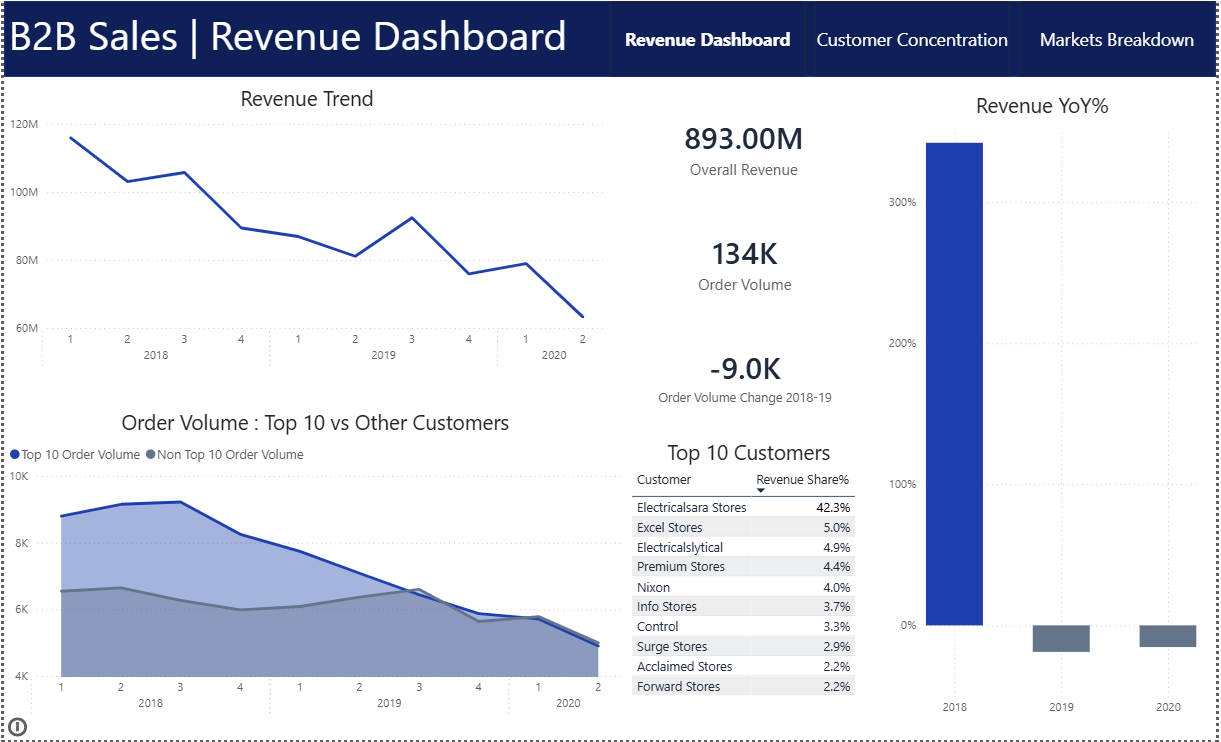

The dashboard page shown, as its layout file describes it:
{"tool":"powerbi","page":{"name":"Revenue Dashboard","canvas":[1280,780],"ordinal":0},"visuals":[{"type":"shape","box":[0,0,1279.5,80.3],"z":0,"group":"g1"},{"type":"cardVisual","title":"Revenue","fields":{"Data":["_Measures.Revenue"]},"box":[657.1,95,248.6,119.7],"z":0,"group":"g2"},{"type":"columnChart","title":"Revenue YoY% ","fields":{"Y":["_Measures.Sum of sales_amount YoY%"],"Category":["sales date.year"]},"box":[927.8,95,335.6,668.1],"z":0},{"type":"textbox","box":[0,0,620.8,80.3],"z":1000,"group":"g1"},{"type":"lineChart","title":"Revenue Trend","fields":{"Y":["_Measures.Revenue"],"Category":["sales date.year Hierarchy.year","sales date.year Hierarchy.Quarter","sales date.year Hierarchy.month_name","sales date.year Hierarchy.date"]},"box":[0,87.1,639.6,308.7],"z":1000},{"type":"cardVisual","title":"Revenue","fields":{"Data":["_Measures.Order Volume"]},"box":[657.1,215.3,250.2,120.3],"z":1000,"group":"g2"},{"type":"cardVisual","title":"Order Volume","fields":{"Data":["_Measures.Change In Order Volume 2018-19"]},"box":[657.1,335.7,250.2,120.3],"z":2000,"group":"g2"},{"type":"tableEx","title":"Top 10 Customers","fields":{"Values":["sales customers.customer_name","_Measures.Revenue Share%"]},"box":[657.1,460.7,258.1,319.8],"z":2000},{"type":"areaChart","title":"Order Volume  : Top 10 vs Other Customers","fields":{"Y":["_Measures.Top 10 Order Volume","_Measures.Non Top 10 Order Volume"],"Category":["sales date.year Hierarchy.year","sales date.year Hierarchy.Quarter","sales date.year Hierarchy.month_name","sales date.year Hierarchy.date"]},"box":[0,429.1,657.1,334.1],"z":3000},{"type":"group","id":"g1","title":"Group 1","box":[0,0,1279.5,80.7],"z":4000},{"type":"group","id":"g2","title":"Group 2","box":[657.1,95,250.2,361],"z":5000},{"type":"pageNavigator","box":[639.6,0,639.6,80.7],"z":5003,"group":"g1"},{"type":"actionButton","box":[0,752,310.3,28.5],"z":6000}]}

Visuals, with their boxes in screenshot pixels (x1, y1, x2, y2), scaled from the page's 1280x780 canvas onto the 1221x742 screenshot:
shape: [0, 0, 1220, 76]
"Revenue" cardVisual: [627, 90, 864, 204]
"Revenue YoY% " columnChart: [885, 90, 1205, 726]
textbox: [0, 0, 592, 76]
"Revenue Trend" lineChart: [0, 83, 610, 377]
"Revenue" cardVisual: [627, 205, 865, 319]
"Order Volume" cardVisual: [627, 319, 865, 434]
"Top 10 Customers" tableEx: [627, 438, 873, 741]
"Order Volume  : Top 10 vs Other Customers" areaChart: [0, 408, 627, 726]
"Group 1" group: [0, 0, 1220, 77]
"Group 2" group: [627, 90, 865, 434]
pageNavigator: [610, 0, 1220, 77]
actionButton: [0, 715, 296, 741]
